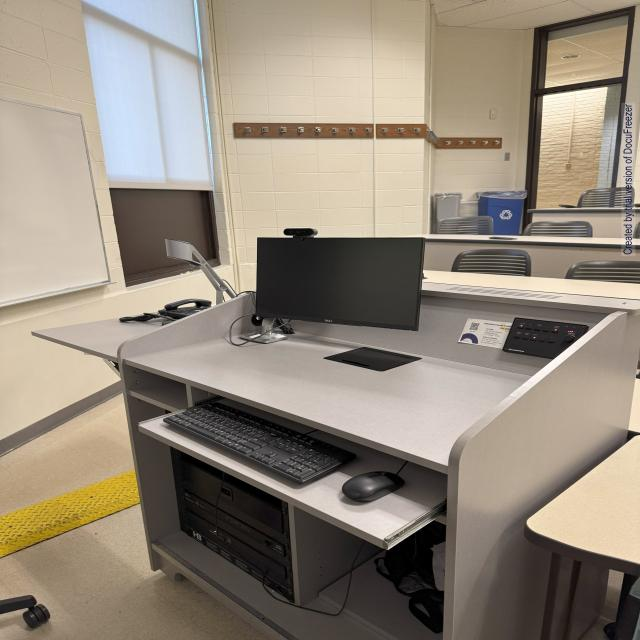Table: (29, 277, 628, 640)
